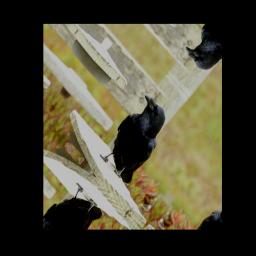Crow: (95, 91, 178, 187)
